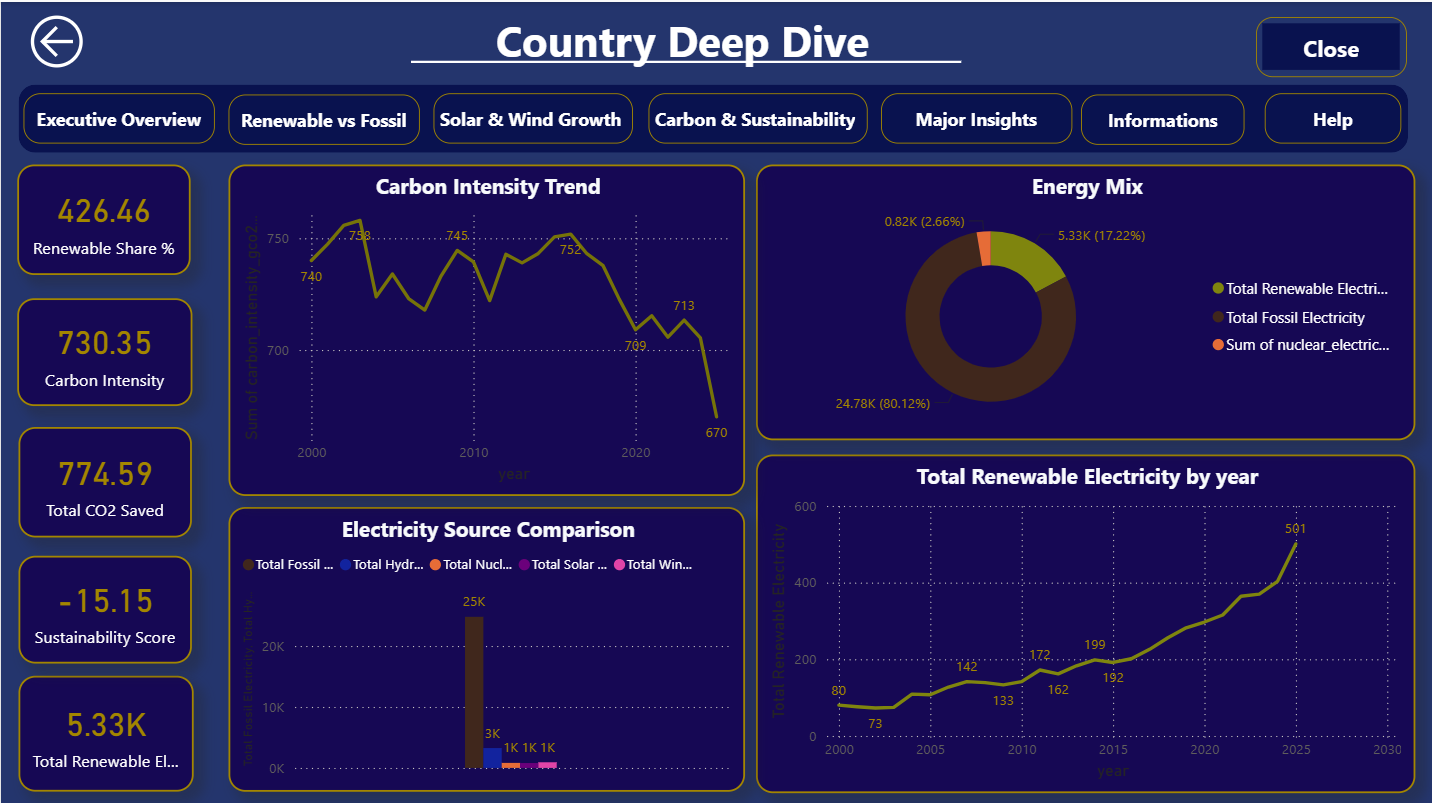

What the dashboard file says about the page in this screenshot:
{"tool":"powerbi","page":{"name":"Country Deep Dive","canvas":[1280,720],"ordinal":4},"visuals":[{"type":"textbox","box":[315,4.5,583.6,64.1],"z":0,"group":"g3"},{"type":"shape","box":[16.1,73.2,1237.6,60.8],"z":0,"group":"g2"},{"type":"shape","box":[20.5,80.8,170.1,44.6],"z":0,"group":"g1"},{"type":"lineChart","fields":{"Category":["GlobalRenewableEnergy.year"],"Y":["GlobalRenewableEnergy.Total Renewable Electricity"]},"box":[672.9,402.9,587.1,301.4],"z":0},{"type":"group","id":"g1","title":"Group 1","box":[20.5,13,1231.7,113.7],"z":1000,"group":"g2"},{"type":"shape","box":[364.9,25.5,490.1,55.4],"z":1000,"group":"g3"},{"type":"shape","box":[202.7,82,170.1,44.6],"z":1000,"group":"g1"},{"type":"donutChart","title":"Energy Mix","fields":{"Y":["GlobalRenewableEnergy.Total Renewable Electricity","GlobalRenewableEnergy.Total Fossil Electricity","Sum(GlobalRenewableEnergy.nuclear_electricity_twh)"]},"box":[672.4,144.6,587.1,245.8],"z":1000},{"type":"shape","box":[386.1,80.8,177.3,44.6],"z":2000,"group":"g1"},{"type":"clusteredColumnChart","title":" Electricity Source Comparison","fields":{"Y":["GlobalRenewableEnergy.Total Fossil Electricity","GlobalRenewableEnergy.Total Hydro Electricity","GlobalRenewableEnergy.Total Nuclear Electricity","GlobalRenewableEnergy.Total Solar Electricity","GlobalRenewableEnergy.Total Wind Electricity"]},"box":[202.7,450,459.7,253.4],"z":2000},{"type":"shape","box":[576.7,80.8,195.4,44.6],"z":3000,"group":"g1"},{"type":"card","fields":{"Values":["GlobalRenewableEnergy.Renewable Share %"]},"box":[14.3,144.3,154.3,98.6],"z":3000},{"type":"shape","box":[784.2,80.8,170.1,44.6],"z":4000,"group":"g1"},{"type":"card","fields":{"Values":["GlobalRenewableEnergy.Total Renewable Electricity"]},"box":[15.7,600,155.7,102.9],"z":4000},{"type":"shape","box":[962.7,82,146,44.6],"z":5000,"group":"g1"},{"type":"card","fields":{"Values":["GlobalRenewableEnergy.Carbon Intensity"]},"box":[14.3,264.3,155.7,95.7],"z":5000},{"type":"shape","box":[1125.6,80.8,121.9,44.6],"z":6000,"group":"g1"},{"type":"card","fields":{"Values":["GlobalRenewableEnergy.Total CO2 Saved"]},"box":[15.7,378.6,154.3,98.6],"z":6000},{"type":"shape","title":"Close","box":[1117.8,13,134.5,53.5],"z":7000,"group":"g1"},{"type":"card","fields":{"Values":["GlobalRenewableEnergy.Sustainability Score"]},"box":[15.7,492.9,154.3,95.7],"z":7000},{"type":"lineChart","title":"Carbon Intensity Trend","fields":{"Category":["GlobalRenewableEnergy.year"],"Y":["Sum(GlobalRenewableEnergy.carbon_intensity_gco2_kwh)"]},"box":[202.7,144.8,459.7,295.6],"z":8000},{"type":"group","id":"g2","title":"close","box":[16.1,13,1237.6,121],"z":13000},{"type":"actionButton","box":[20.2,5.8,60.7,59.3],"z":14000},{"type":"group","id":"g3","title":"Title","box":[315,4.5,583.3,76.8],"z":15000}]}

Visuals, with their boxes in screenshot pixels (x1, y1, x2, y2), scaled from the page's 1280x720 canvas onto the 1432x803 screenshot:
textbox: left=352, top=5, right=1005, bottom=77
shape: left=18, top=82, right=1403, bottom=149
shape: left=23, top=90, right=213, bottom=140
lineChart - GlobalRenewableEnergy.year x GlobalRenewableEnergy.Total Renewable Electricity: left=753, top=449, right=1410, bottom=785
"Group 1" group: left=23, top=14, right=1401, bottom=141
shape: left=408, top=28, right=957, bottom=90
shape: left=227, top=91, right=417, bottom=141
"Energy Mix" donutChart: left=752, top=161, right=1409, bottom=435
shape: left=432, top=90, right=630, bottom=140
" Electricity Source Comparison" clusteredColumnChart: left=227, top=502, right=741, bottom=784
shape: left=645, top=90, right=864, bottom=140
card - GlobalRenewableEnergy.Renewable Share %: left=16, top=161, right=189, bottom=271
shape: left=877, top=90, right=1068, bottom=140
card - GlobalRenewableEnergy.Total Renewable Electricity: left=18, top=669, right=192, bottom=784
shape: left=1077, top=91, right=1240, bottom=141
card - GlobalRenewableEnergy.Carbon Intensity: left=16, top=295, right=190, bottom=402
shape: left=1259, top=90, right=1396, bottom=140
card - GlobalRenewableEnergy.Total CO2 Saved: left=18, top=422, right=190, bottom=532
"Close" shape: left=1251, top=14, right=1401, bottom=74
card - GlobalRenewableEnergy.Sustainability Score: left=18, top=550, right=190, bottom=656
"Carbon Intensity Trend" lineChart: left=227, top=161, right=741, bottom=491
"close" group: left=18, top=14, right=1403, bottom=149
actionButton: left=23, top=6, right=91, bottom=73
"Title" group: left=352, top=5, right=1005, bottom=91
